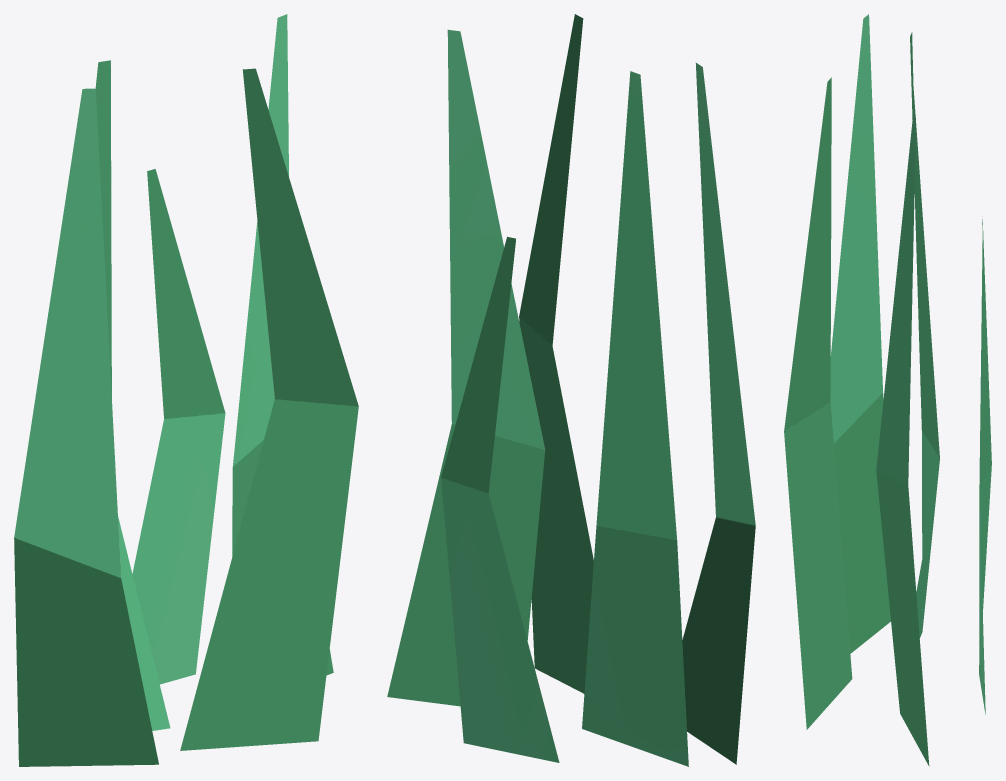
The model's file is relva.fbx.
3 renders of one model, left to right at view 1: azimuth 30°, elevation 25°; view 2: azimuth 150°, elevation 25°; view 3: azimuth 270°, elevation 25°, orthographic. The views are drawn at different scales.
Visible parts, largest first — view 1: relva; view 2: relva; view 3: relva.
Boxes of the visible parts, x1,y1,x2,y2 form: relva: (14, 14, 358, 766); relva: (387, 14, 755, 766); relva: (784, 14, 991, 766).
Size of the model in its own units: 97.3 by 183 by 55.07.
1 material, 1 textured.
